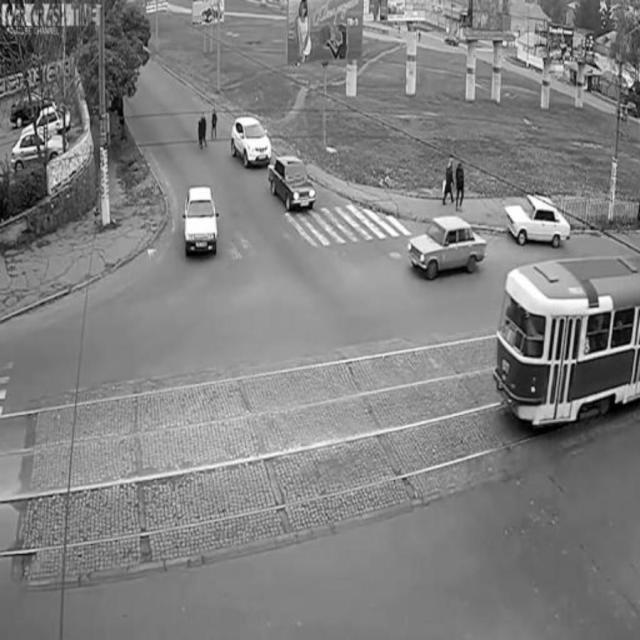person: (452, 153, 467, 208), (442, 149, 456, 205), (192, 106, 209, 152), (208, 104, 222, 141)
vehicle: (499, 254, 640, 441), (411, 217, 487, 278), (507, 187, 571, 248), (268, 152, 319, 210), (181, 186, 221, 256), (10, 124, 68, 169), (230, 114, 271, 170)
